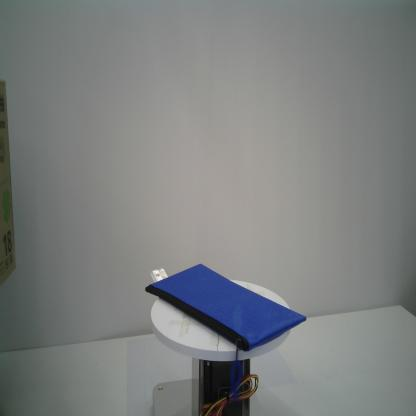Stationery: (144, 262, 308, 412)
